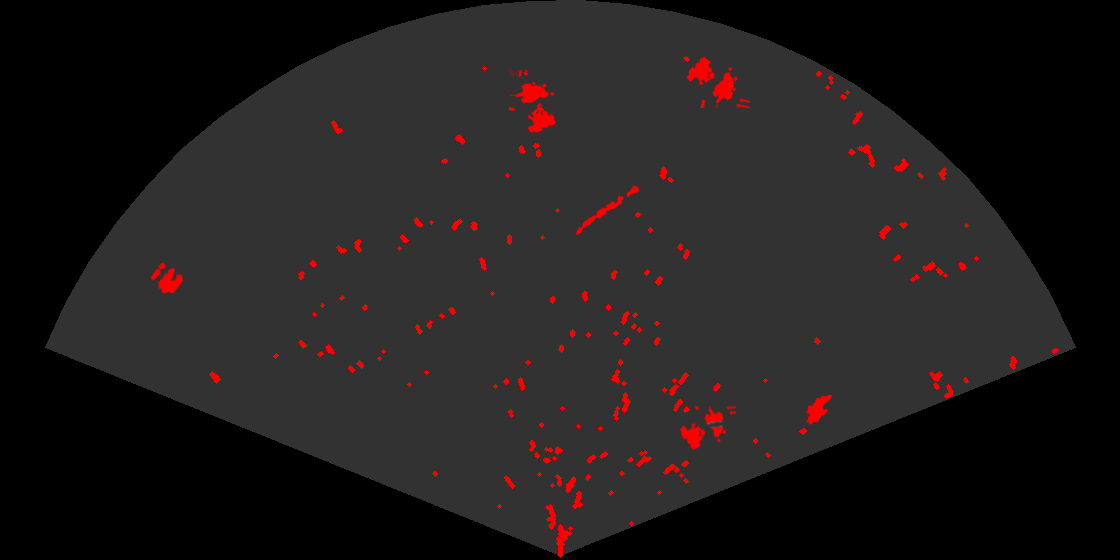AUV: (805, 393, 834, 426)
ball: (149, 261, 185, 296)
cage: (685, 55, 750, 108), (509, 70, 558, 135), (678, 406, 736, 452)
chain: (574, 180, 645, 237)
